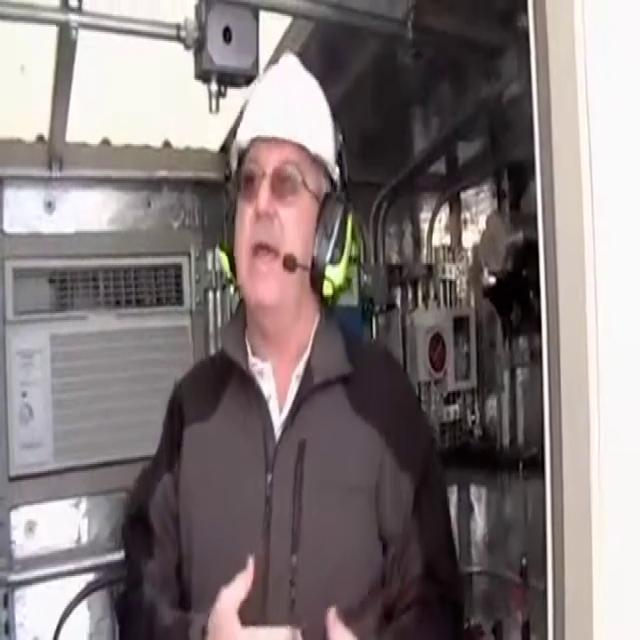earmuff: (309, 182, 355, 309)
helmet: (226, 44, 342, 192)
